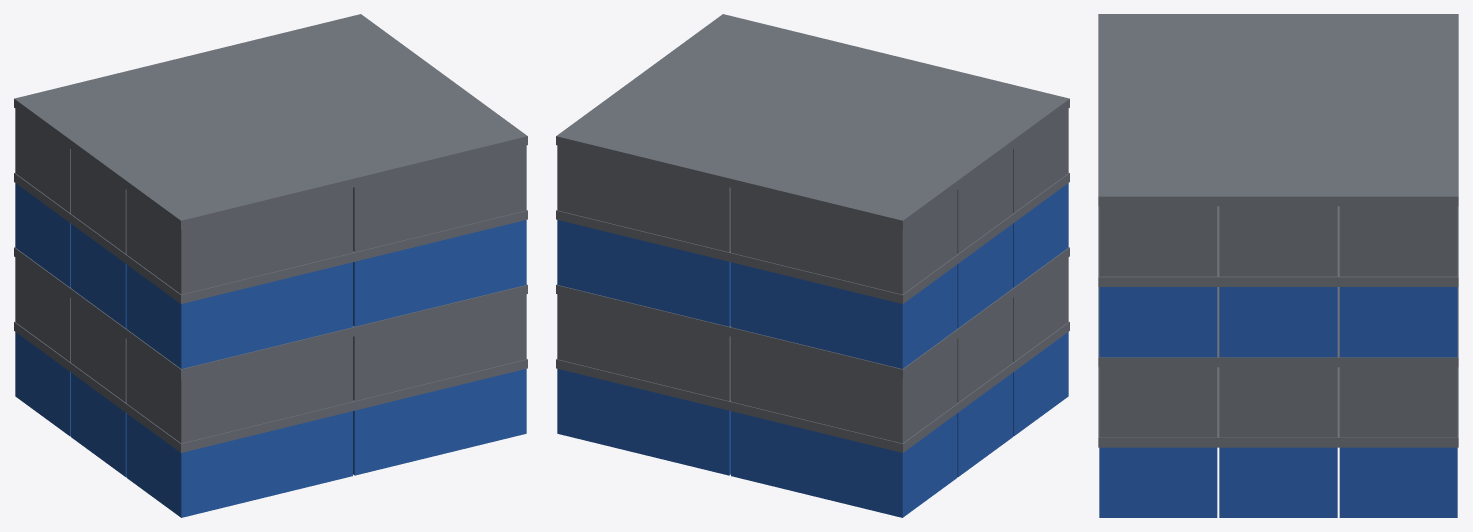
Rendered from load-gma-crates.glb.
3 views of the same model, side by side, from view 1: azimuth 30°, elevation 25°; view 2: azimuth 150°, elevation 25°; view 3: azimuth 270°, elevation 25° (orthographic). The views are drawn at different scales.
Visible parts, largest first — view 1: load-crates; view 2: load-crates; view 3: load-crates.
Part boxes in pixels (x1=…): load-crates: x1=14, y1=14, x2=527, y2=517; load-crates: x1=556, y1=14, x2=1069, y2=517; load-crates: x1=1098, y1=14, x2=1458, y2=517.
Bounding box in the file's own units: 1.22 × 1 × 1.02.
